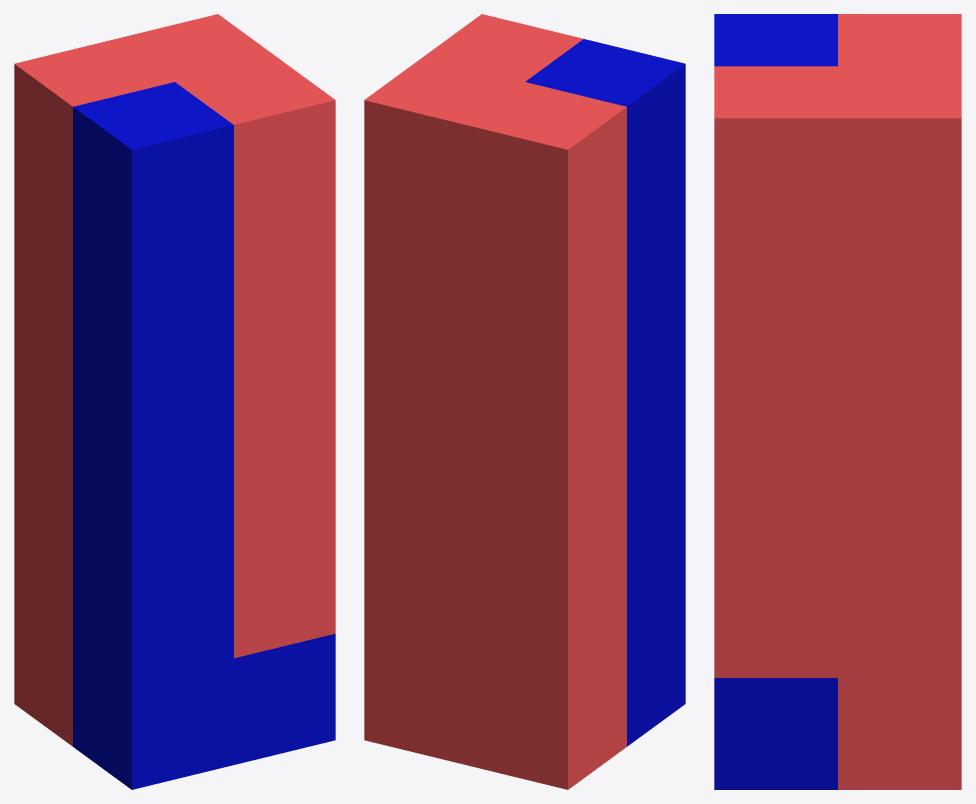
File: RLegTemplate.obj
3 views of the same model, side by side, from view 1: azimuth 30°, elevation 25°; view 2: azimuth 150°, elevation 25°; view 3: azimuth 270°, elevation 25° (orthographic). The views are drawn at different scales.
Bounding box in the file's own units: 0.2 × 0.6 × 0.2.
Materials: 1 (1 with a texture image).
